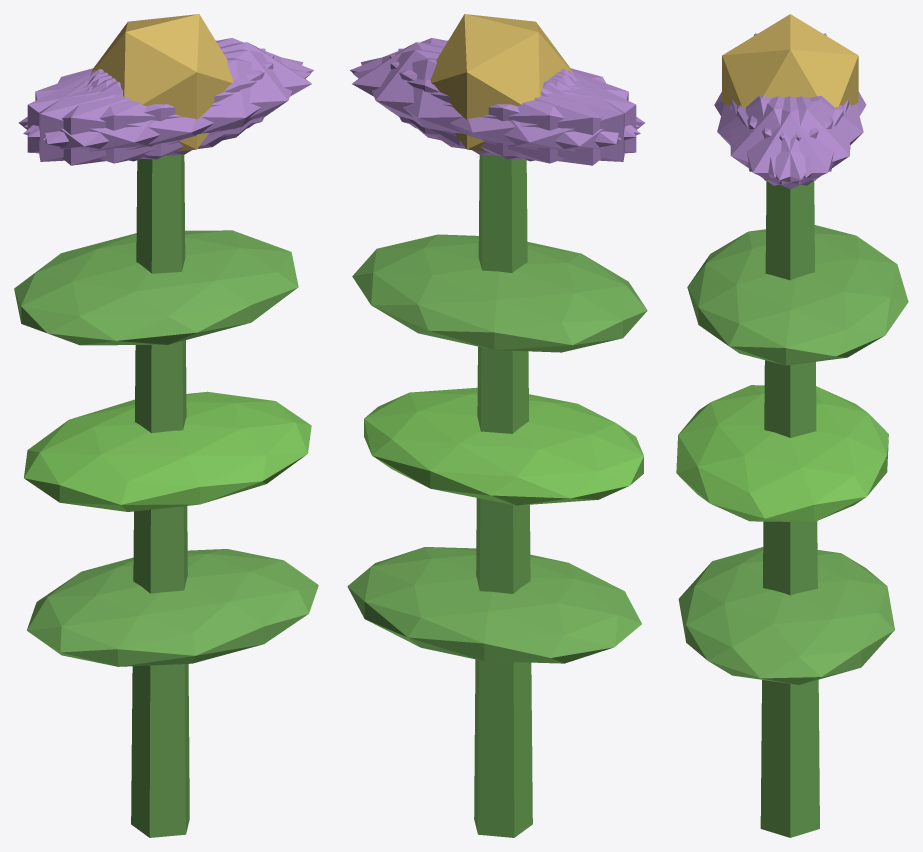
The model's file is schisandra-glabra.glb.
3 views of the same model, side by side, from view 1: azimuth 30°, elevation 25°; view 2: azimuth 150°, elevation 25°; view 3: azimuth 270°, elevation 25° (orthographic).
Parts seen in each view (by area): view 1: stem, leaf1, leaf0, leaf2, center, petal1, petal6, petal2, petal5, petal7, petal0, petal4 (+2 smaller); view 2: stem, leaf2, leaf0, leaf1, center, petal8, petal3, petal7, petal4, petal2, petal0, petal5 (+2 smaller); view 3: stem, leaf2, leaf0, leaf1, center, petal0, petal4, petal5, petal1, petal8.
Boxes of the visible parts, x1,y1,x2,y2 form: stem: (131, 154, 189, 837); leaf1: (24, 391, 311, 511); leaf0: (27, 549, 318, 666); leaf2: (14, 230, 298, 345); center: (91, 14, 233, 151); petal1: (23, 58, 311, 163); petal6: (18, 70, 226, 165); petal2: (39, 48, 265, 161); petal5: (43, 49, 302, 156); petal7: (27, 54, 273, 159); petal0: (91, 42, 311, 145); petal4: (24, 38, 313, 137); stem: (474, 154, 532, 837); leaf2: (352, 234, 647, 352); leaf0: (347, 547, 641, 663); leaf1: (364, 387, 643, 505); center: (430, 14, 572, 151); petal8: (352, 58, 640, 163); petal3: (437, 70, 645, 165); petal7: (398, 48, 624, 161); petal4: (361, 49, 620, 156); petal2: (390, 54, 636, 159); petal0: (352, 42, 572, 145); petal5: (350, 38, 639, 137); stem: (760, 181, 819, 837); leaf2: (687, 225, 908, 365); leaf0: (678, 547, 894, 684); leaf1: (676, 385, 888, 522); center: (722, 14, 858, 107); petal0: (732, 96, 848, 189); petal4: (737, 96, 850, 185); petal5: (730, 96, 843, 185); petal1: (717, 96, 833, 177); petal8: (747, 96, 863, 177).
Bounding box in the file's own units: 0.1452 × 0.3928 × 0.1043.
